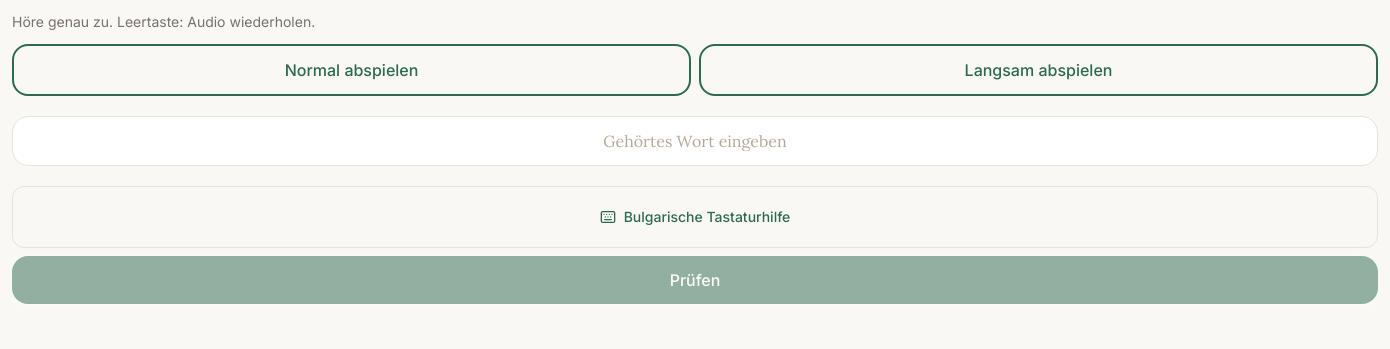
ListenExercise › shows an explicit failure state when authored and fallback audio fail
Click the button "Normal abspielen" at (352, 70), box [12,44,691,96]
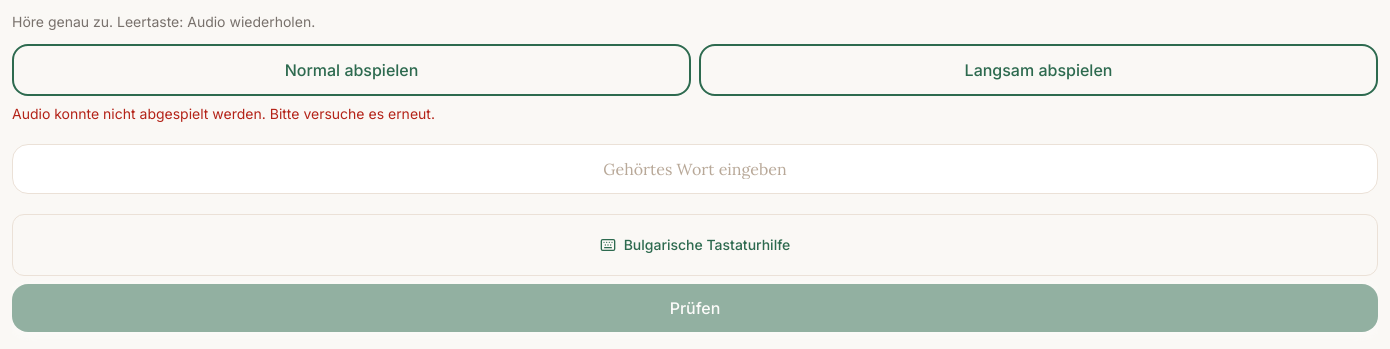
Now the message shows "Audio konnte nicht abgespielt werden", box [12,105,435,122]
